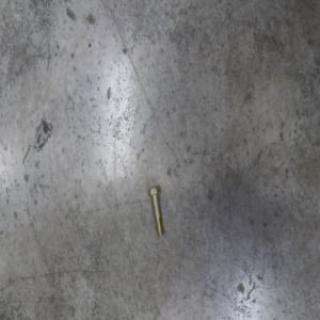Bolttrack_idkeyframe: (148, 181, 164, 235)
